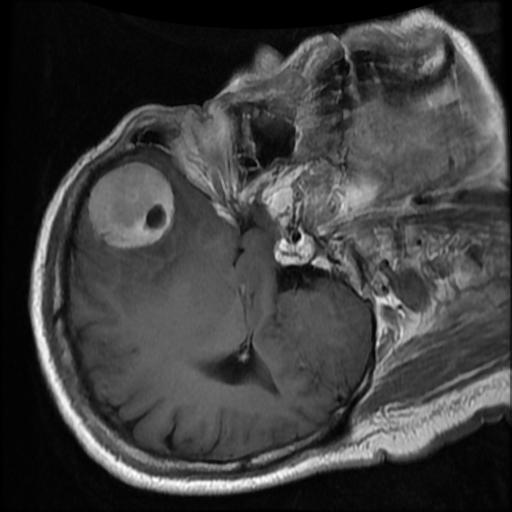meningioma: (85, 162, 175, 249)
